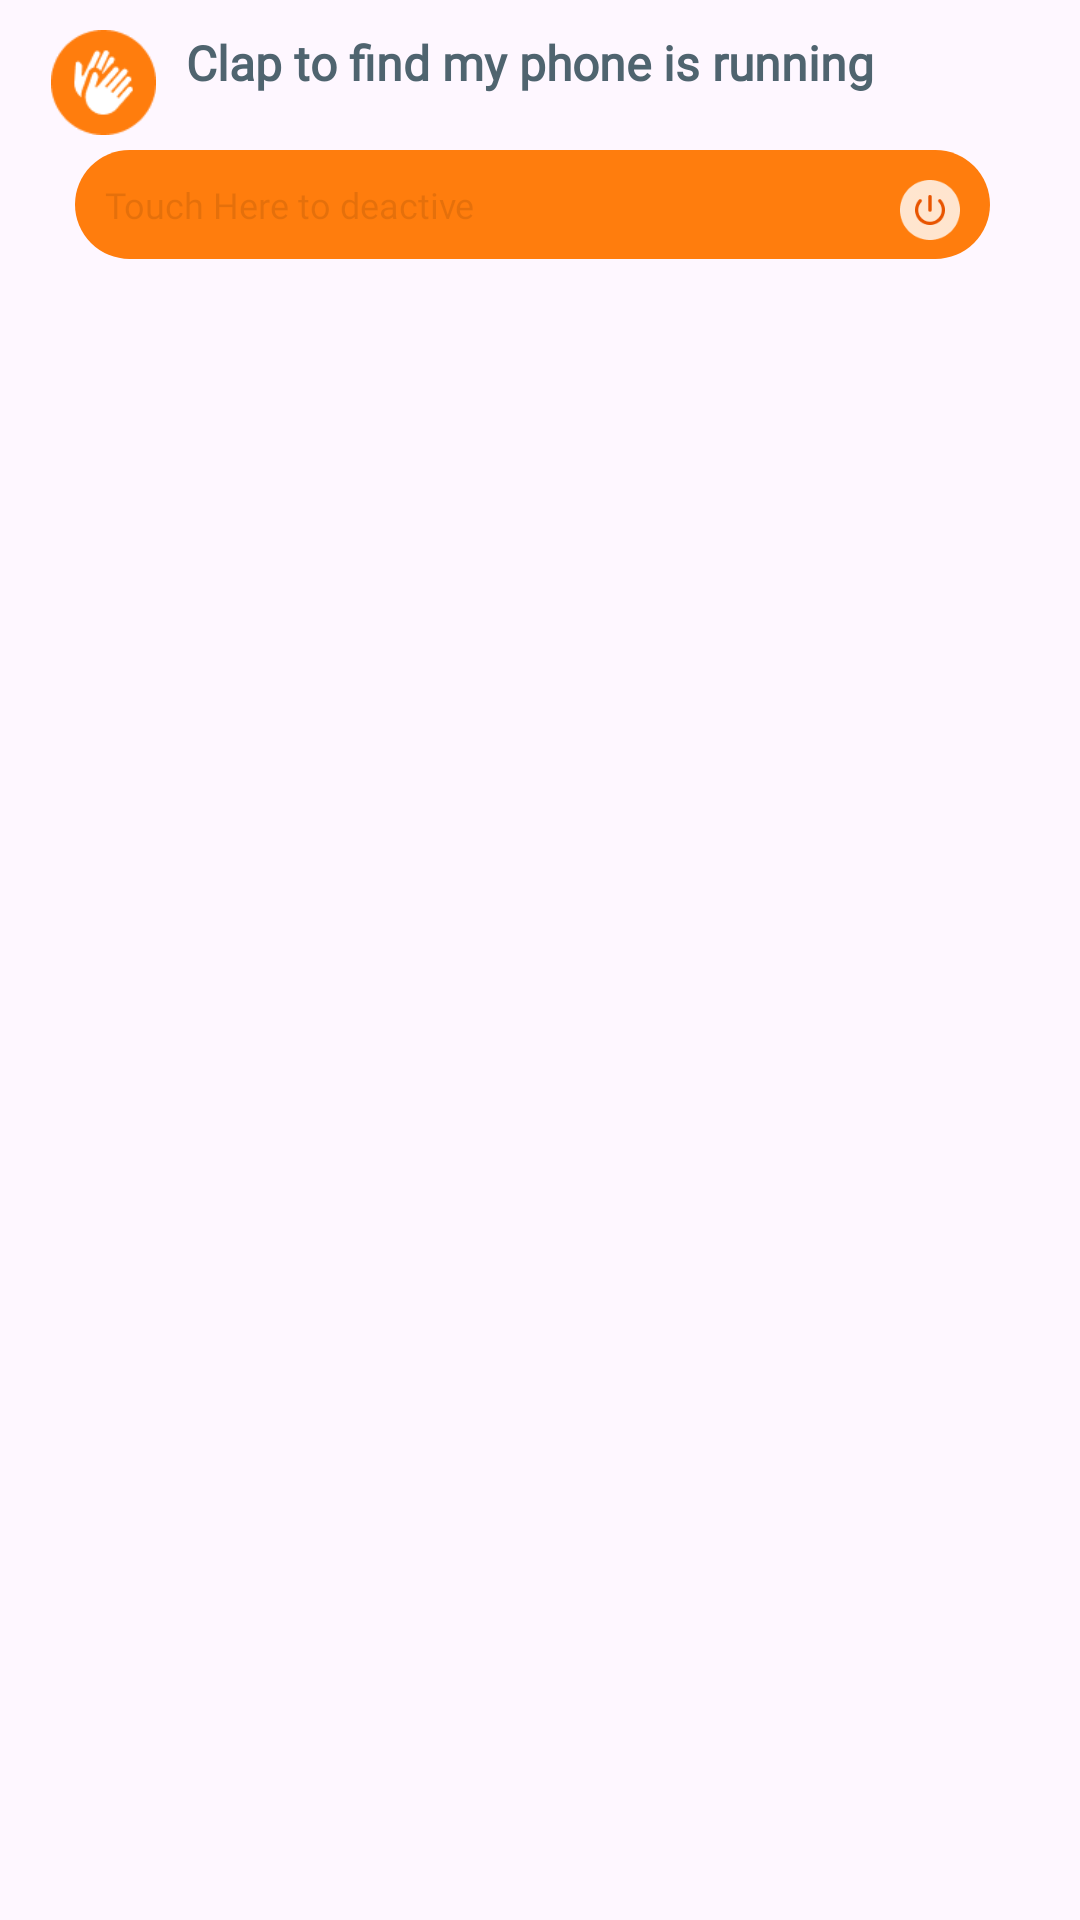

Icon click points for this 1080*1920 phone screenshot, format (x,y):
clap notify: (103,82)
power notify: (930,210)
